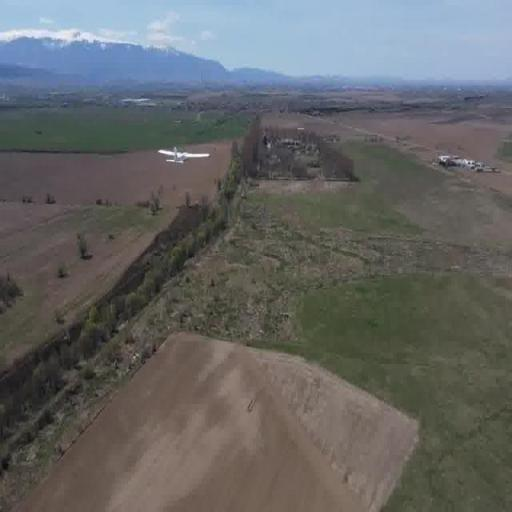uav: (156, 138, 212, 172)
